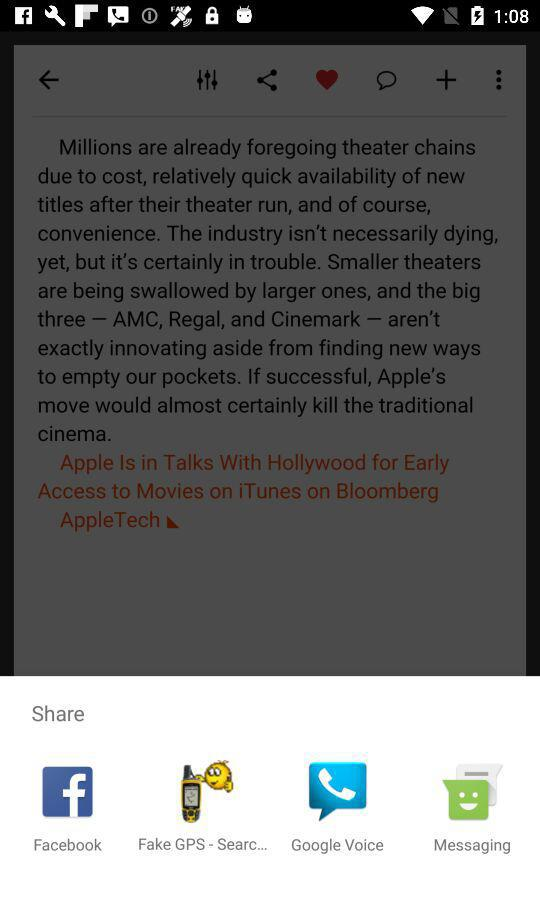Icon: (309, 761, 368, 822), (43, 766, 94, 818), (37, 70, 61, 94), (257, 69, 279, 92), (316, 70, 339, 91), (198, 69, 219, 91), (436, 70, 457, 91), (377, 71, 397, 91), (496, 70, 502, 91)
Image: (179, 759, 235, 824), (442, 763, 504, 821)
Modal: (1, 676, 539, 897)
Text: (36, 139, 499, 444), (37, 453, 452, 503), (61, 511, 161, 533), (139, 836, 269, 851), (292, 837, 384, 855), (434, 838, 514, 855), (34, 837, 104, 852), (33, 704, 86, 723)
UpperTaskBar: (1, 1, 540, 33)
